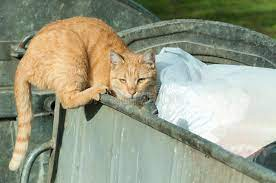cat: (1, 14, 163, 174)
